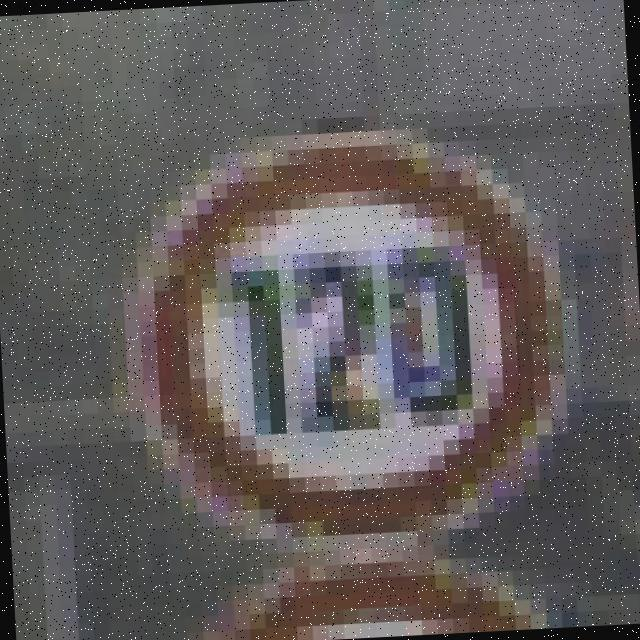Ograniczenie predkosci do 120: (136, 134, 566, 551)
